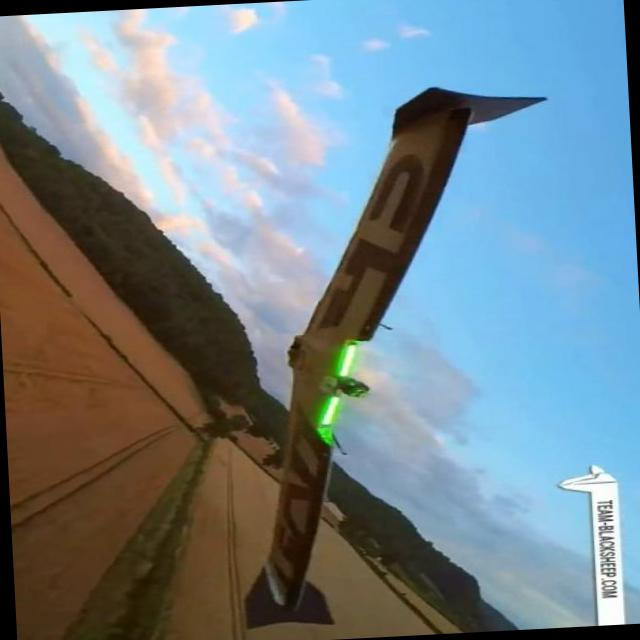UAV: (195, 82, 561, 604)
